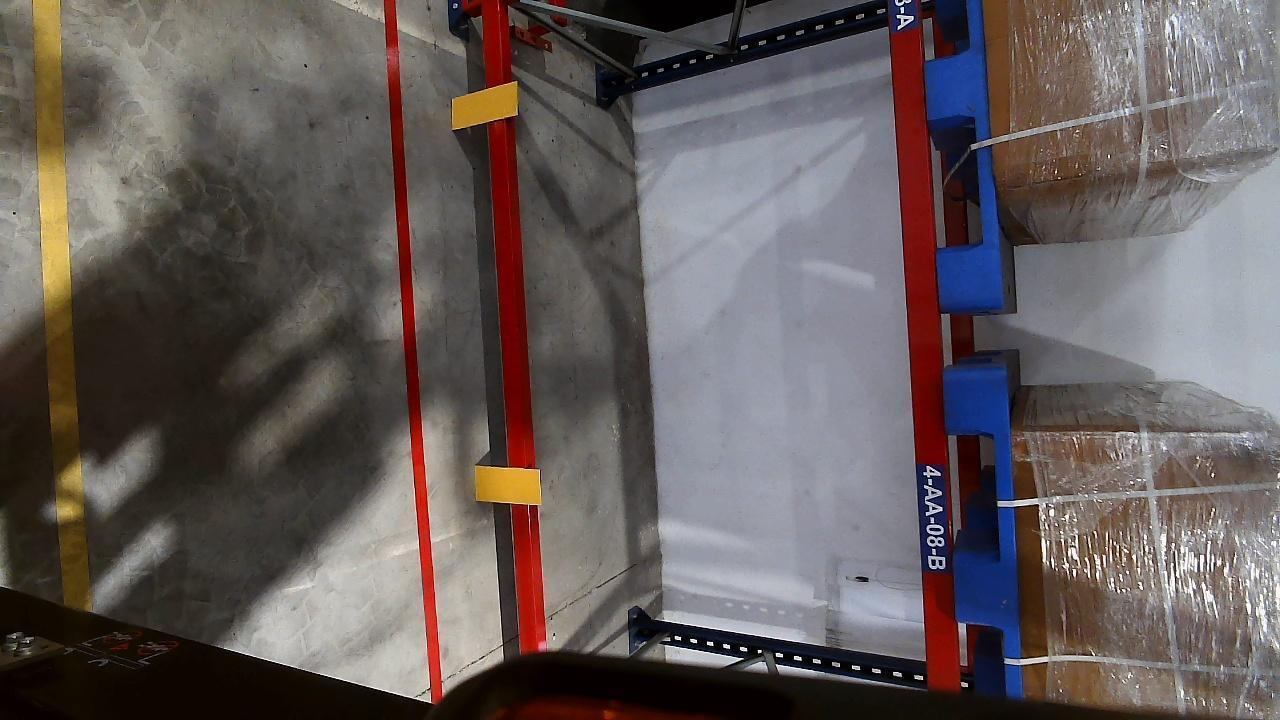red_line: (372, 0, 466, 678)
yellow_line: (16, 0, 105, 611)
